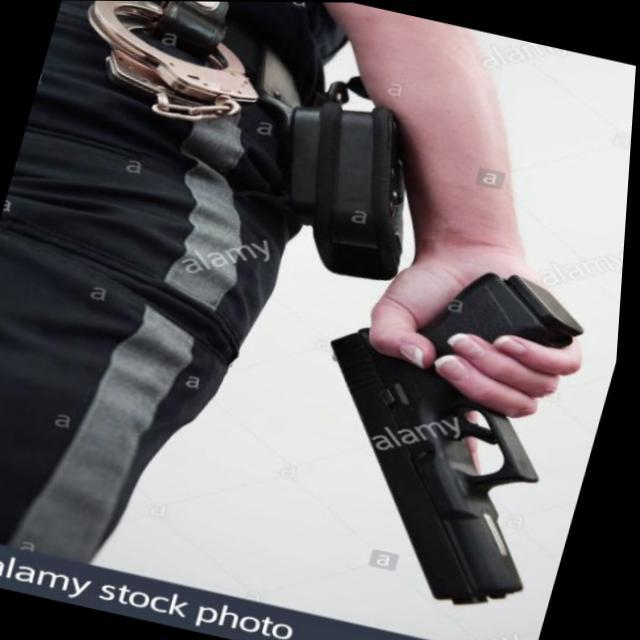weapon: (272, 237, 614, 618)
